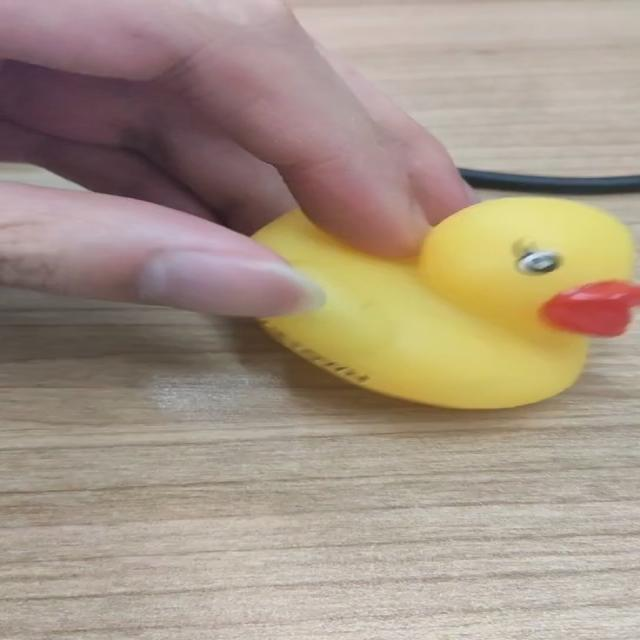rubber-duck: (253, 196, 638, 406)
